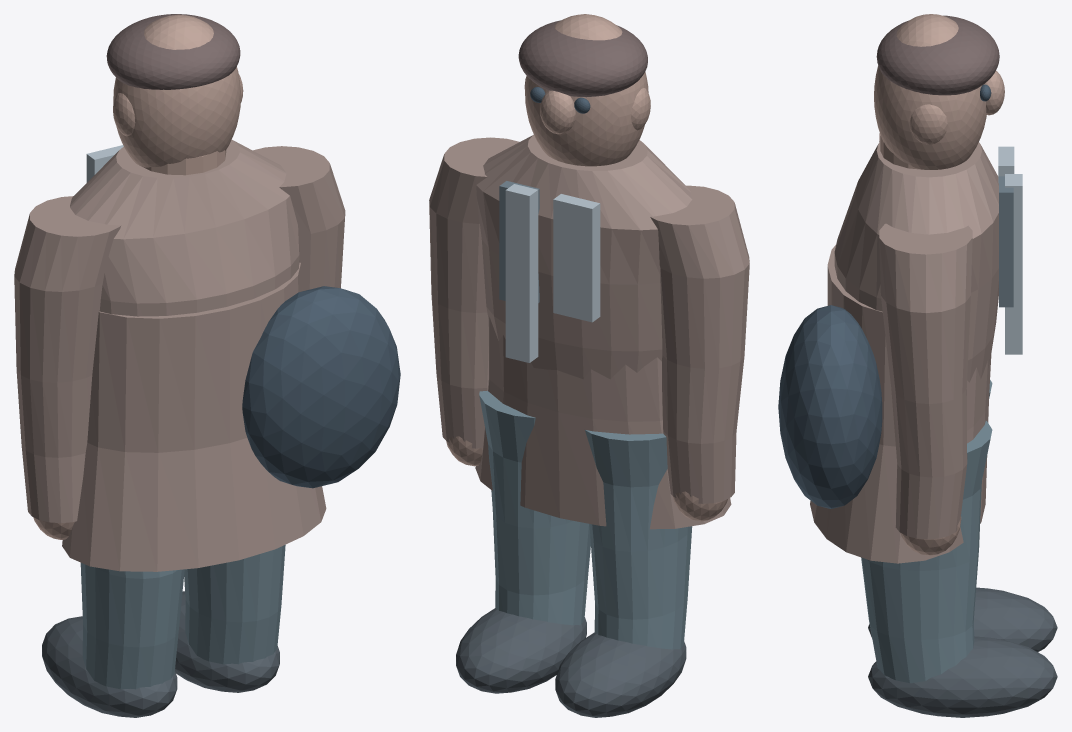
Rendered from pedestrian_1.glb.
3 renders of one model, left to right at view 1: azimuth 30°, elevation 25°; view 2: azimuth 150°, elevation 25°; view 3: azimuth 270°, elevation 25°, orthographic. The views are drawn at different scales.
Visible parts, largest first — view 1: long-coat, tailored-torso, dark, arm_L, skin2, leg_L, leg_R, rubber, arm_R, hairbrown; view 2: tailored-torso, arm_L, long-coat, leg_L, rubber, arm_R, leg_R, alum, skin2, hairbrown, frame; view 3: arm_R, tailored-torso, dark, leg_R, rubber, long-coat, skin2, hairbrown, alum, frame.
Part boxes in pixels (x1,y1,x2,y2): long-coat: [62, 262, 326, 571]; tailored-torso: [70, 140, 299, 316]; dark: [242, 286, 400, 488]; arm_L: [14, 196, 121, 523]; skin2: [33, 14, 243, 539]; leg_L: [80, 563, 184, 689]; leg_R: [184, 544, 285, 664]; rubber: [42, 591, 279, 717]; arm_R: [253, 146, 345, 291]; hairbrown: [106, 14, 240, 89]; tailored-torso: [476, 134, 692, 379]; arm_L: [650, 185, 749, 503]; long-coat: [475, 316, 731, 529]; leg_L: [585, 430, 692, 649]; rubber: [456, 608, 686, 717]; arm_R: [429, 137, 519, 448]; leg_R: [479, 390, 590, 625]; alum: [505, 184, 600, 362]; skin2: [446, 14, 727, 521]; hairbrown: [518, 20, 647, 97]; frame: [499, 181, 539, 302]; arm_R: [879, 223, 972, 539]; tailored-torso: [834, 142, 998, 382]; dark: [778, 84, 991, 508]; leg_R: [861, 421, 992, 683]; rubber: [868, 587, 1057, 717]; long-coat: [810, 244, 991, 563]; skin2: [874, 14, 1004, 555]; hairbrown: [876, 15, 999, 95]; alum: [998, 146, 1022, 354]; frame: [999, 176, 1013, 307].
Bounding box in the file's own units: 1.06 × 2.1 × 0.795.
